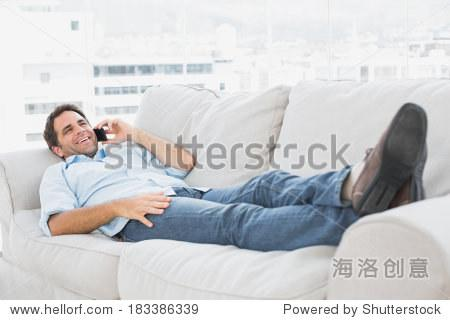phone: (91, 121, 112, 147)
talk: (56, 114, 125, 153)
